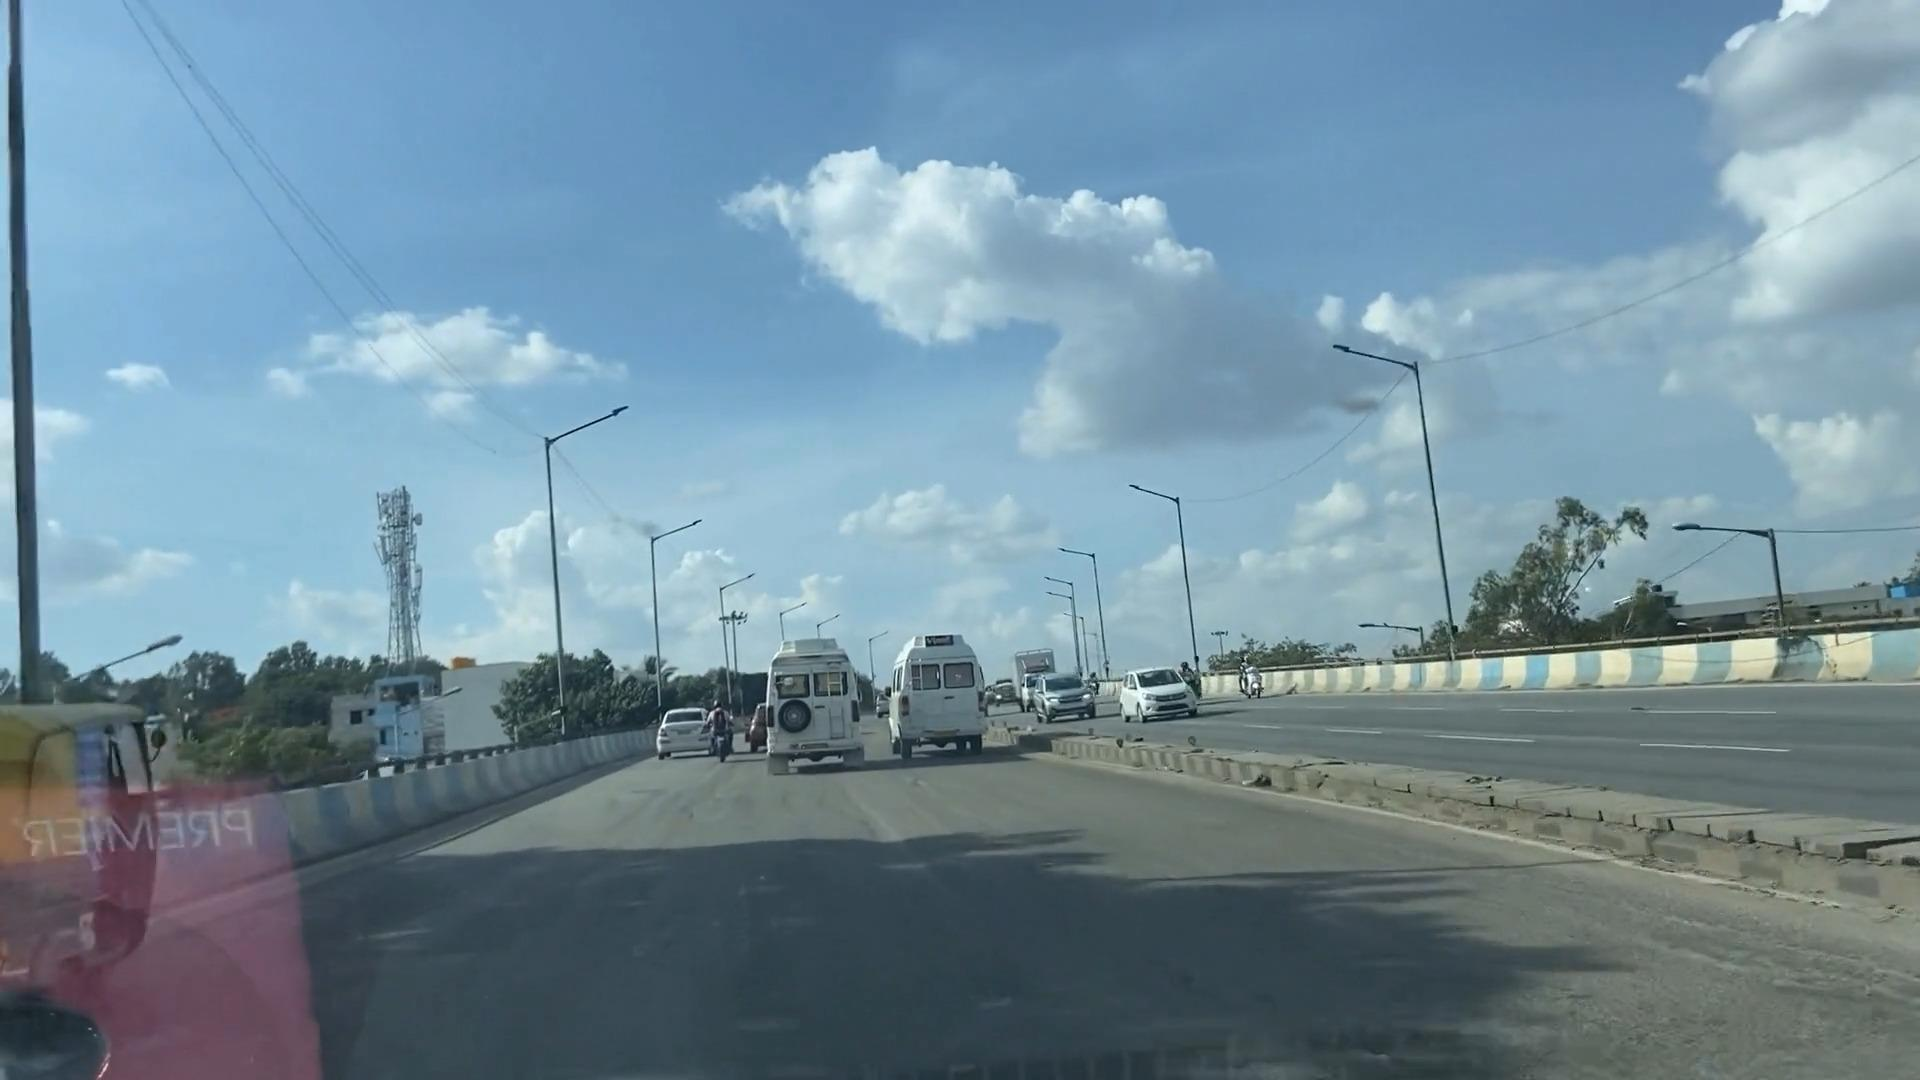HMV: (760, 640, 875, 781), (890, 640, 974, 757)
